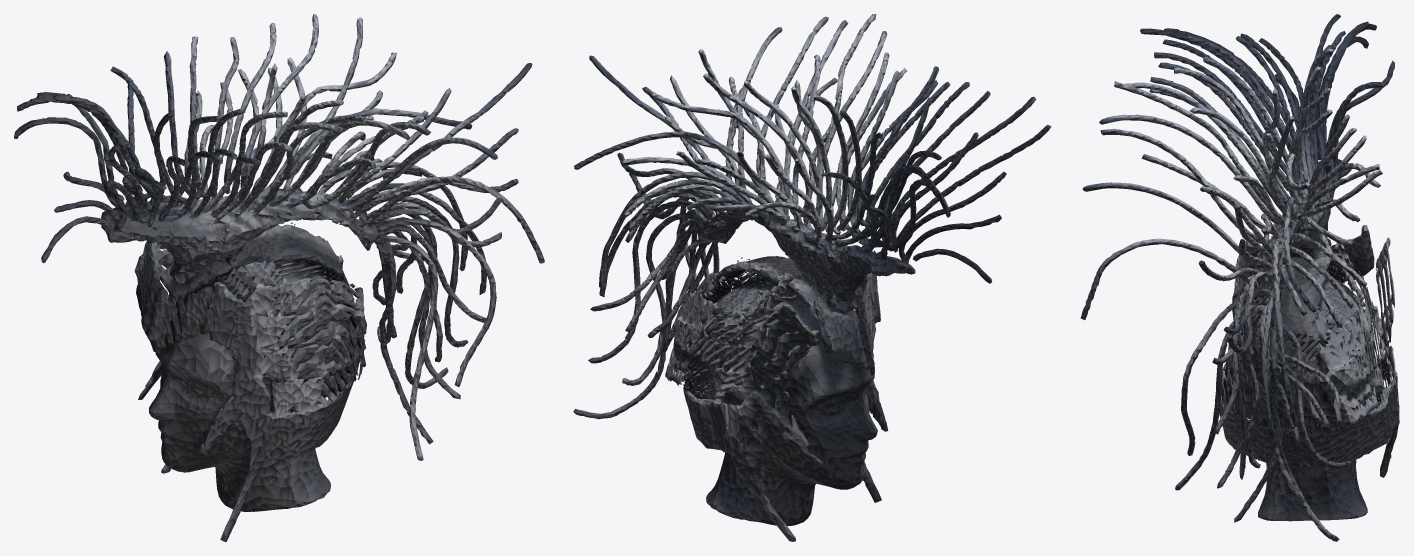
File: female_helmet.glb
3 renders of one model, left to right at view 1: azimuth 30°, elevation 25°; view 2: azimuth 150°, elevation 25°; view 3: azimuth 270°, elevation 25°, orthographic. The views are drawn at different scales.
Size of the model in its own units: 2.29 by 2.22 by 1.46.
Materials: 1 (1 with a texture image).
